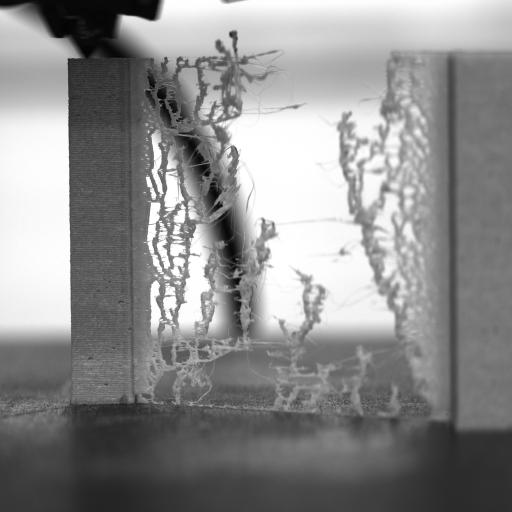spaghetti_and_stringing: (142, 34, 400, 410)
